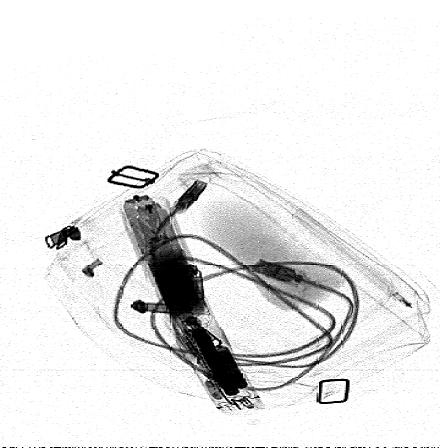Baton: (119, 191, 266, 417)
